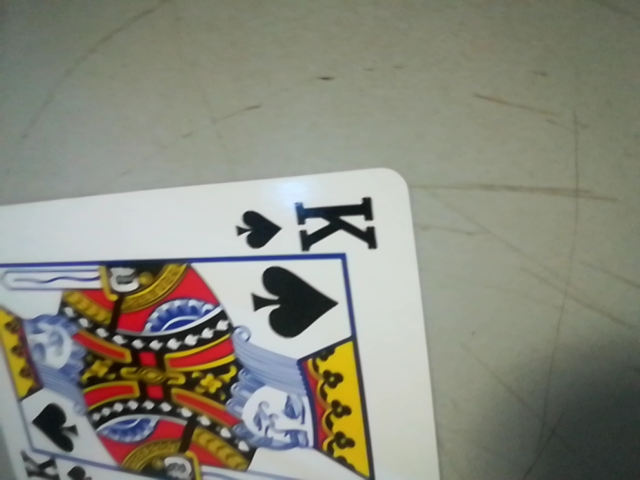ht k: (236, 183, 377, 256)
